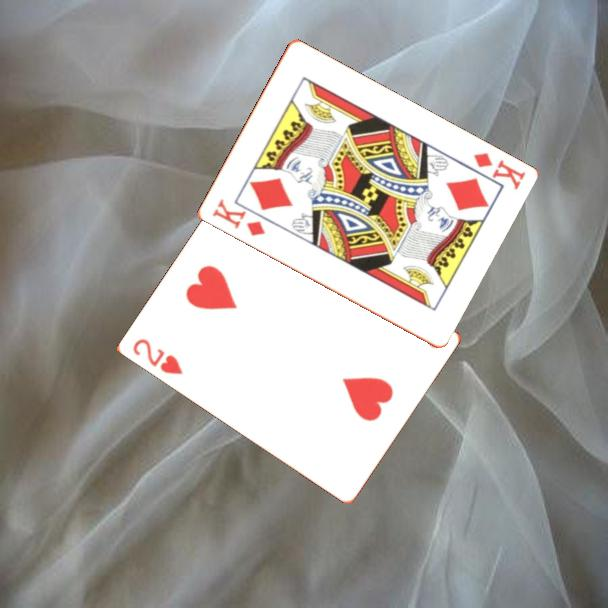d13: (208, 195, 268, 239), (469, 149, 528, 193)
h02: (130, 335, 187, 378)
